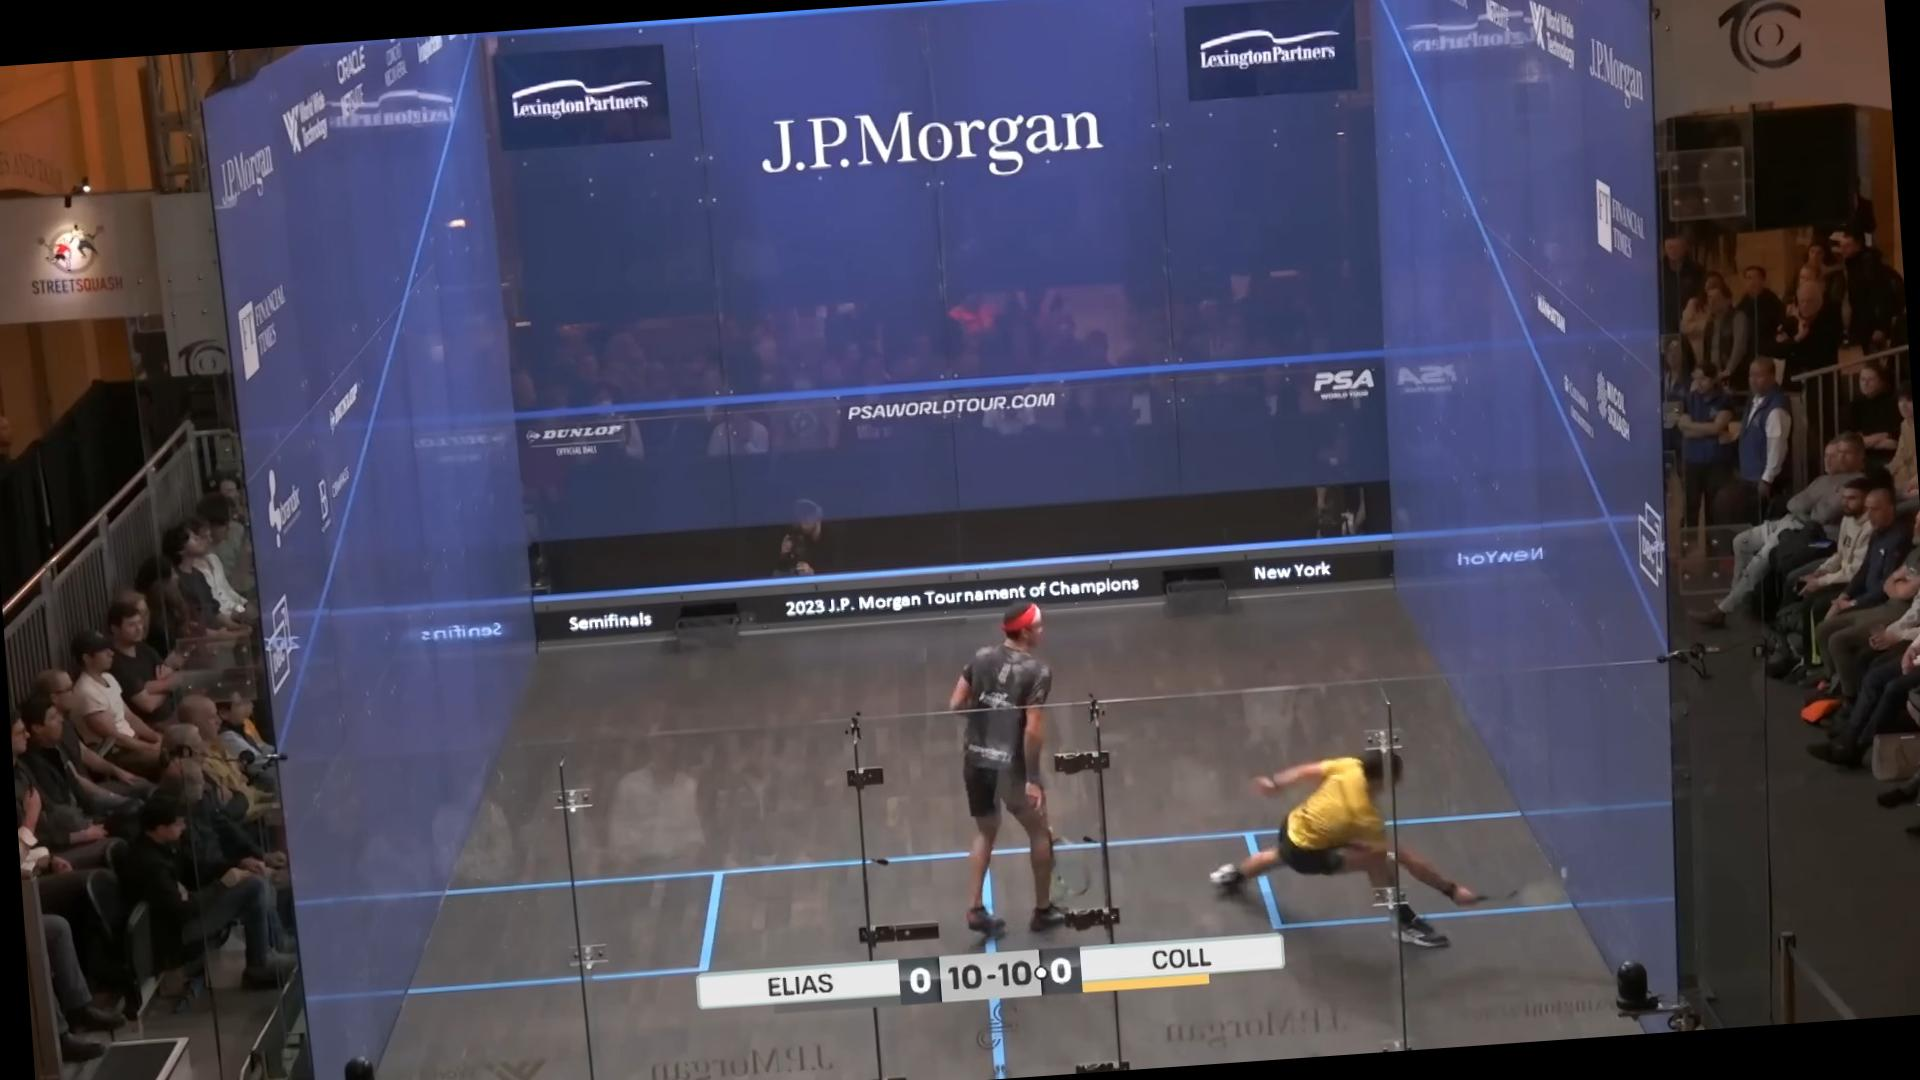Racket: (1031, 806, 1098, 907), (1477, 869, 1594, 926)
